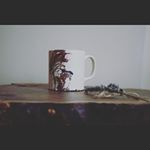cups: (46, 46, 100, 98)
